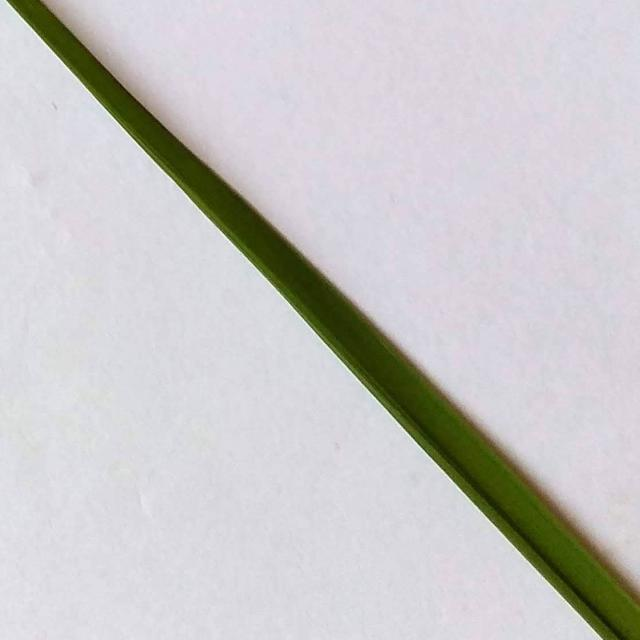Rice_Healthy: (7, 0, 639, 639)
